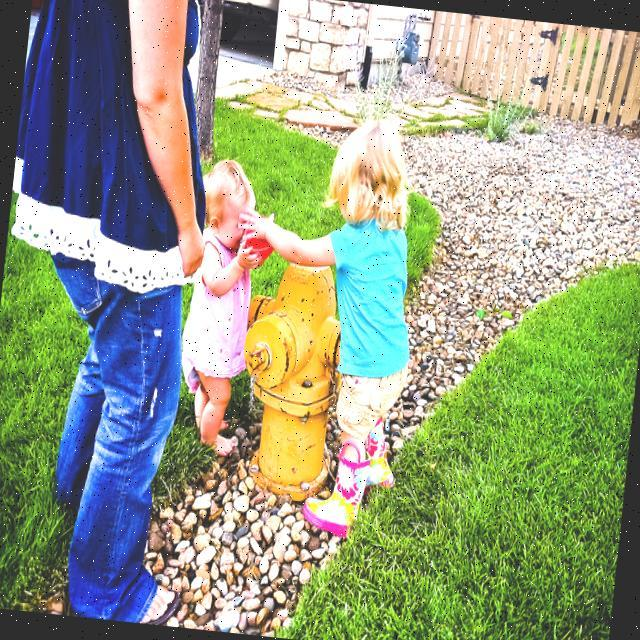fire_hydrant: (227, 258, 356, 506)
